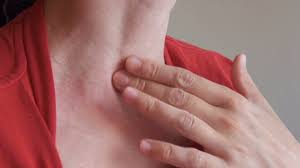hand: (103, 34, 281, 165)
